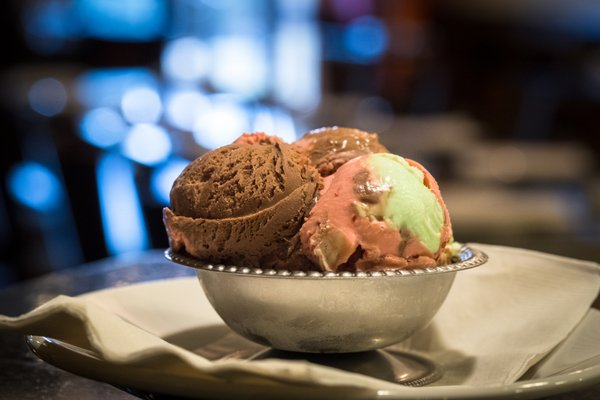sushi: (162, 126, 488, 354)
